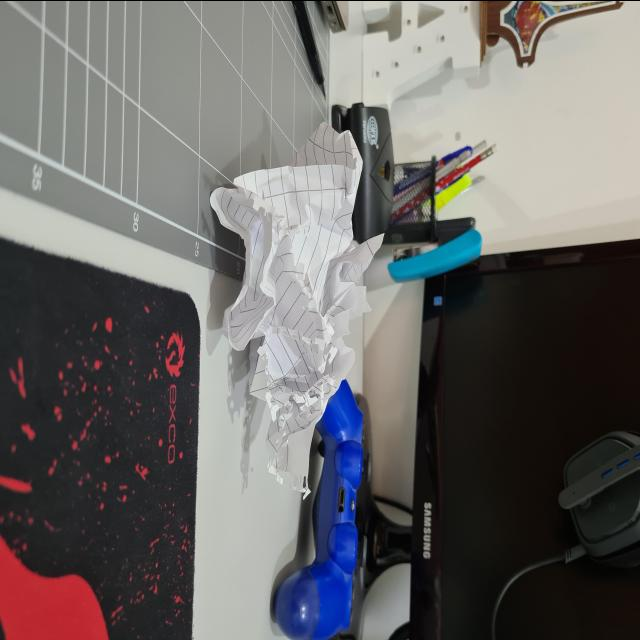kertas: (217, 124, 363, 454)
